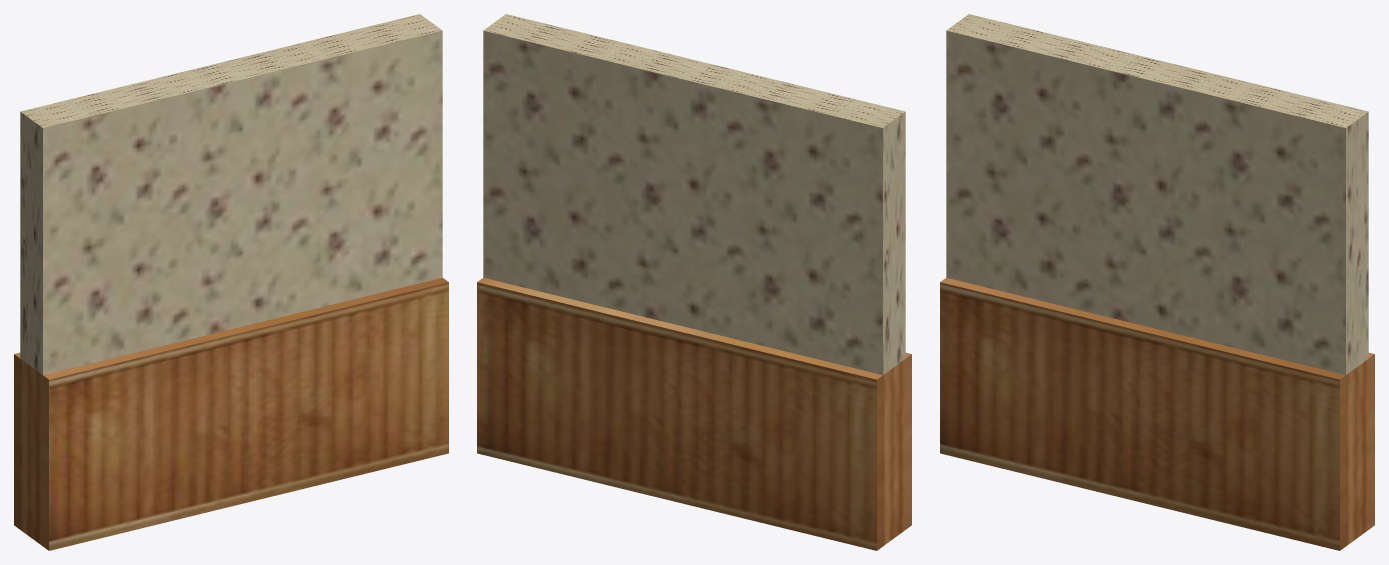
Rendered from wall.fbx.
3 renders of one model, left to right at view 1: azimuth 30°, elevation 25°; view 2: azimuth 150°, elevation 25°; view 3: azimuth 330°, elevation 25°, orthographic.
Parts seen in each view (by area): view 1: Cube.012; view 2: Cube.012; view 3: Cube.012.
Boxes of the visible parts, bbox=[...] form: Cube.012: bbox=[14, 14, 448, 550]; Cube.012: bbox=[477, 14, 911, 550]; Cube.012: bbox=[940, 14, 1374, 550].
Bounding box in the file's own units: 383 × 383 × 57.92.
